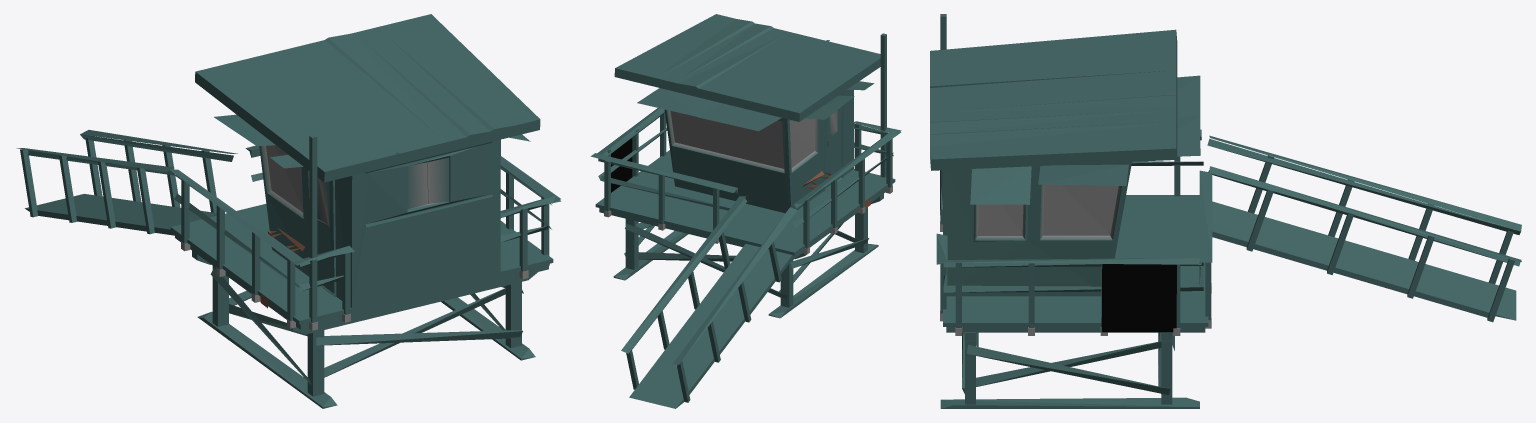
The model's file is lifeguard-hut.lod0.glb.
3 renders of one model, left to right at view 1: azimuth 30°, elevation 25°; view 2: azimuth 150°, elevation 25°; view 3: azimuth 270°, elevation 25°, orthographic. The views are drawn at different scales.
Visible parts, largest first — view 1: Object_5; view 2: Object_5; view 3: Object_5.
Boxes of the visible parts, left/top/right/bottom form: Object_5: left=16, top=14, right=561, bottom=408; Object_5: left=590, top=14, right=901, bottom=408; Object_5: left=930, top=14, right=1521, bottom=408.
Bounding box in the file's own units: 4.54 × 4.5 × 8.54.
